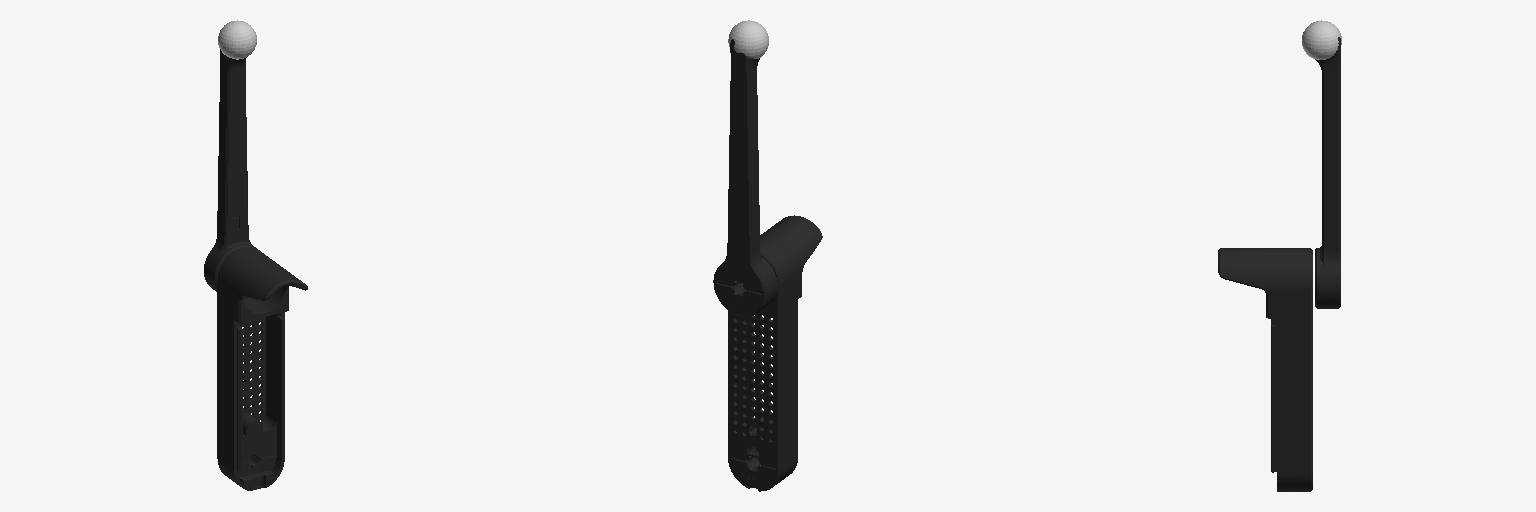
The robot description file, URDF, robot "pupper_arm":
<?xml version="1.0"?>
<!-- created with Phobos 1.0.1 "Capricious Choutengan" -->
  <robot name="pupper_arm">
    <link name="base">
      <inertial>
        <origin xyz="0 0 0" rpy="0 0 0"/>
        <mass value="0.200"/>
        <inertia ixx="1e-03" ixy="0" ixz="0" iyy="1e-03" iyz="0" izz="1e-03"/>
      </inertial>
      <visual name="Base">
        <origin xyz="0 0 -0.032" rpy="0 0 0"/>
        <geometry>
          <mesh filename="meshes/3dof_base.obj" scale="0.001 0.001 0.001"/>
        </geometry>
        <material name="BaseMaterial"/>
      </visual>
    </link>

    <link name="leftFrontLeg">
      <inertial>
        <origin xyz="0.0139 0.0254 0" rpy="0 0 0"/>
        <mass value="0.106"/>
        <inertia ixx="2e-05" ixy="0" ixz="0" iyy="6e-05" iyz="0" izz="6e-05"/>
      </inertial>
      <visual name="Hip_L">
        <origin xyz="0 0 0" rpy="0 0 0"/>
        <geometry>
          <mesh filename="meshes/Hip_L.obj" scale="1.0 1.0 1.0"/>
        </geometry>
        <material name="PupperMaterial"/>
      </visual>
      <collision name="Hip L">
        <origin xyz="0.0235 0.0265 0" rpy="1.5708 0 -1.5708"/>
        <geometry>
          <cylinder radius="0.015" length="0.075"/>
        </geometry>
      </collision>
    </link>

    <link name="leftFrontLowerLeg">
      <inertial>
        <origin xyz="0.00558 -0.00075 -0.0658" rpy="0 0 0"/>
        <mass value="0.038"/>
        <inertia ixx="0.00018" ixy="0" ixz="0" iyy="0.00018" iyz="0" izz="2e-05"/>
      </inertial>
      <visual name="Lower_Leg_L">
        <origin xyz="0 0 0" rpy="0 0 0"/>
        <geometry>
          <mesh filename="meshes/Lengthened_Lower_Leg_L.stl" scale="0.001 0.001 0.001"/>
        </geometry>
        <material name="PupperMaterial"/>
      </visual>
      <collision name="Lower Leg L">
        <origin xyz="0.00699 0 -0.05223" rpy="0 0 0"/>
        <geometry>
          <box size="0.00951 0.012 0.10758"/>
        </geometry>
      </collision>
    </link>

    <link name="leftFrontToe">
      <inertial>
        <origin xyz="0 0 0" rpy="0 0 0"/>
        <mass value="0.0001"/>
        <inertia ixx="2e-05" ixy="0" ixz="0" iyy="2e-05" iyz="0" izz="2e-05"/>
      </inertial>
      <visual>
        <origin rpy="0.00000 -0.00000 0.00000" xyz="0.00 0.00000 0.000"/>
        <geometry>
          <sphere radius="0.01"/>
        </geometry>
        <material name="gray">
          <color rgba=".80000 .800000 .800000 1.00000" />
        </material>
		  </visual>
      <collision name="Sphere.003">
        <origin xyz="0 0 0" rpy="0 0 0"/>
        <geometry>
          <sphere radius="0.0095"/>
        </geometry>
      </collision>
    </link>

    <link name="leftFrontUpperLeg">
      <inertial>
        <origin xyz="0.0172 0 -0.061" rpy="0 0 0"/>
        <mass value="0.142"/>
        <inertia ixx="0.00014" ixy="0" ixz="0" iyy="0.00016" iyz="0" izz="3e-05"/>
      </inertial>
      <visual name="Upper_Leg_-_Pupper_2.1_v57">
        <origin xyz="0 0 0" rpy="0 0 0"/>
        <geometry>
          <mesh filename="meshes/Lengthened_Upper_Leg.stl" scale="0.001 0.001 0.001"/>
        </geometry>
        <material name="PupperMaterial"/>
      </visual>
      <collision name="Upper Leg - Pupper 2.1 v57">
        <origin xyz="0.0169 0 -0.08" rpy="1.5708 0 1.5708"/>
        <geometry>
          <cylinder radius="0.015" length="0.065"/>
        </geometry>
      </collision>
    </link>

   

    <joint name="leftFrontLowerLegMotor" type="revolute">
      <origin xyz="-0.004 0 -0.10" rpy="0 0 3.14159"/>
      <parent link="leftFrontUpperLeg"/>
      <child link="leftFrontLowerLeg"/>
      <axis xyz="1.0 0 0"/>
      <limit lower="-10" upper="10" effort="0" velocity="0"/>
    </joint>

    <joint name="leftFrontToe" type="floating">
      <origin xyz="0.002 0 -0.13" rpy="0 0 -3.14159"/>
      <parent link="leftFrontLowerLeg"/>
      <child link="leftFrontToe"/>
    </joint>

    <joint name="leftFrontUpperLegMotor" type="revolute">
      <origin xyz="0.0395 0.0265 0" rpy="1.5708 0 0"/>
      <parent link="leftFrontLeg"/>
      <child link="leftFrontUpperLeg"/>
      <axis xyz="-1.0 0 0"/>
      <limit lower="-10" upper="10" effort="0" velocity="0"/>
    </joint>

    <joint name="baseMotor" type="revolute">
      <origin xyz="0 0 -0.025" rpy="1.5708 0 -1.5708"/>
      <parent link="base"/>
      <child link="leftFrontLeg"/>
      <axis xyz="0 1 0"/>
      <limit lower="-10" upper="10" effort="0" velocity="0"/>
    </joint>

    <material name="PupperMaterial">
      <color rgba="0.2 0.2 0.2 1.0"/>
    </material>

    <material name = "BaseMaterial">
      <color rgba="0.8 0.8 0.8 1.0"/>
    </material>

  </robot>

--- What the picture shows (computed from the rendered views, not written in the file) ---
Views: 3 orthographic renders of the robot side by side, from view 1: azimuth 30°, elevation 25°; view 2: azimuth 150°, elevation 25°; view 3: azimuth 270°, elevation 25°.
Model pupper_arm with 5 links and 4 joints (3 revolute, 1 floating), rooted at base, posed all joints at 0.
Links seen in each view (by area): view 1: leftFrontUpperLeg, leftFrontLowerLeg, leftFrontToe; view 2: leftFrontUpperLeg, leftFrontLowerLeg, leftFrontToe; view 3: leftFrontUpperLeg, leftFrontLowerLeg, leftFrontToe.
Boxes of the visible links, x1,y1,x2,y2 form: leftFrontUpperLeg: (217,247,307,490); leftFrontLowerLeg: (204,49,256,291); leftFrontToe: (218,20,256,59); leftFrontUpperLeg: (728,215,822,491); leftFrontLowerLeg: (713,39,777,316); leftFrontToe: (728,20,768,58); leftFrontUpperLeg: (1218,248,1312,491); leftFrontLowerLeg: (1315,37,1340,308); leftFrontToe: (1302,20,1341,59).
Bounding box of the posed robot: 0.03 × 0.0615 × 0.255 m (x, y, z).
2 mesh visuals loaded from 4 distinct referenced files (2 binary STL); not drawn: 2 (reference not matched to a file when rendering).
